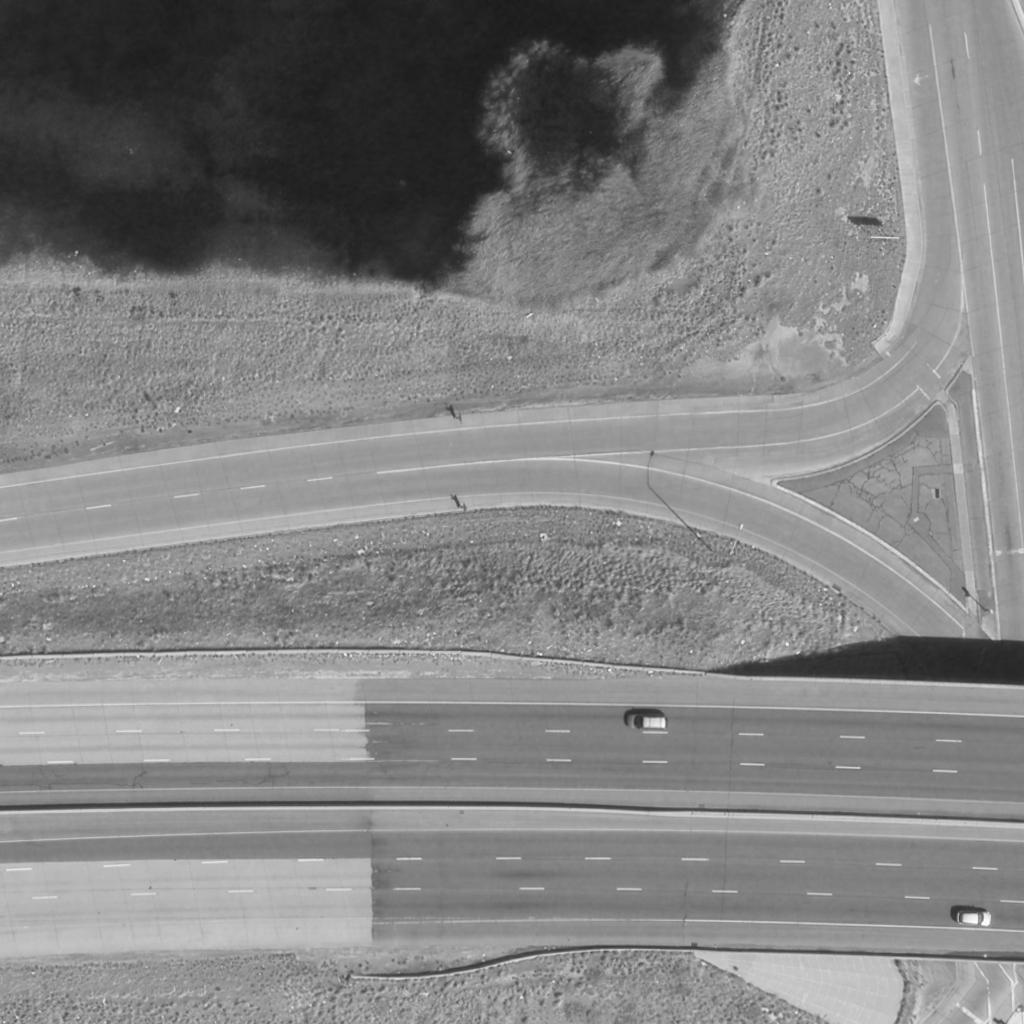vehicle: (626, 714, 668, 730), (957, 911, 991, 927)
